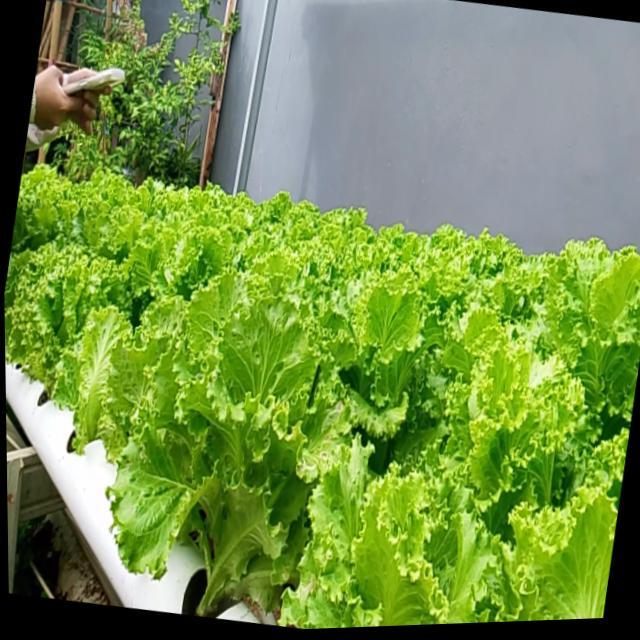Mature: (4, 174, 640, 629), (142, 308, 346, 604), (5, 217, 152, 436)
